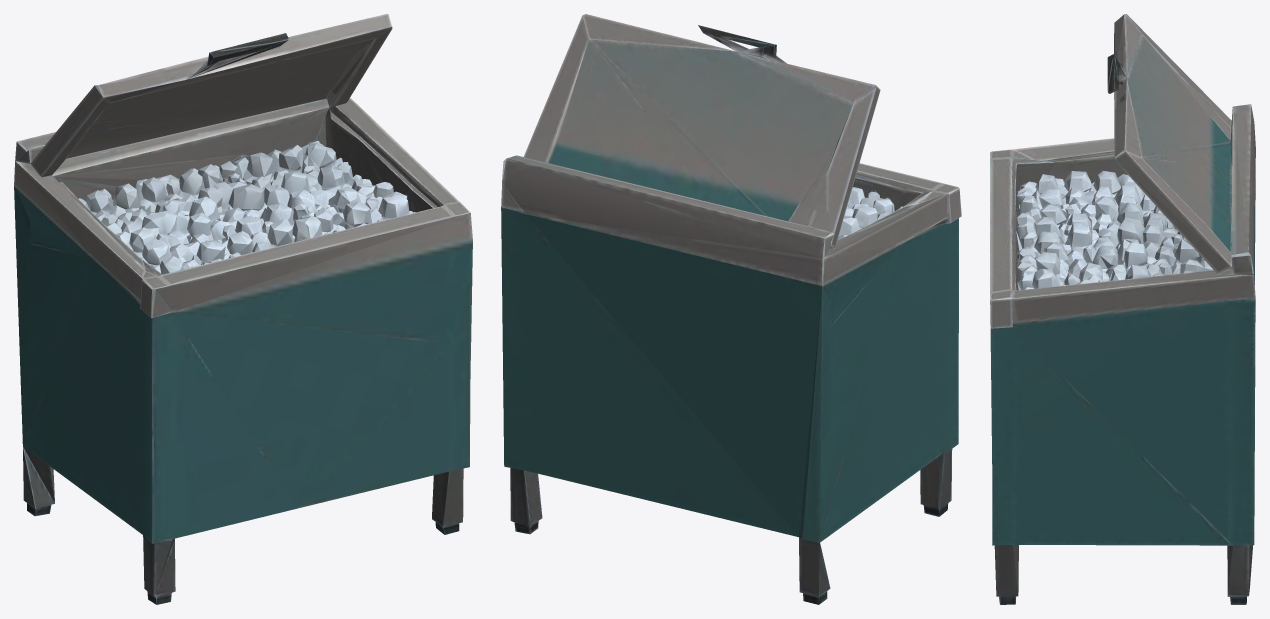
File: iceBin.glb
3 views of the same model, side by side, from view 1: azimuth 30°, elevation 25°; view 2: azimuth 150°, elevation 25°; view 3: azimuth 270°, elevation 25° (orthographic). The views are drawn at different scales.
Visible parts, largest first — view 1: Mesh_0; view 2: Mesh_0; view 3: Mesh_0.
Boxes of the visible parts, x1=… form: Mesh_0: x1=14, y1=14, x2=472, y2=604; Mesh_0: x1=501, y1=14, x2=961, y2=604; Mesh_0: x1=990, y1=14, x2=1255, y2=604.
Bounding box in the file's own units: 0.594 × 0.85 × 0.442.
1 material, 1 textured.
